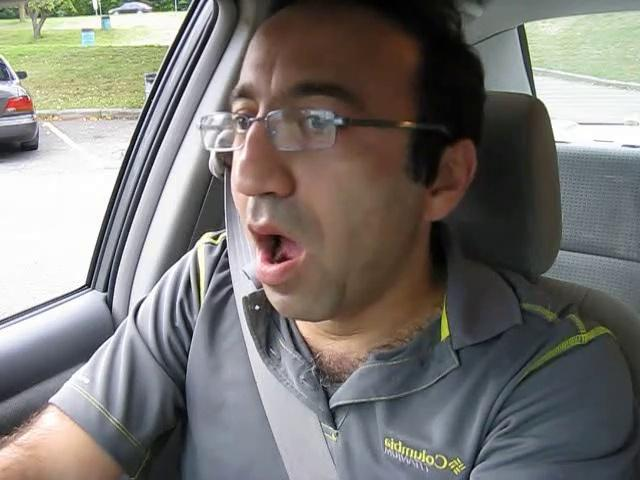open_eyeL: (213, 98, 266, 142)
open_eyeR: (282, 94, 360, 150)
yawn: (228, 213, 326, 284)
